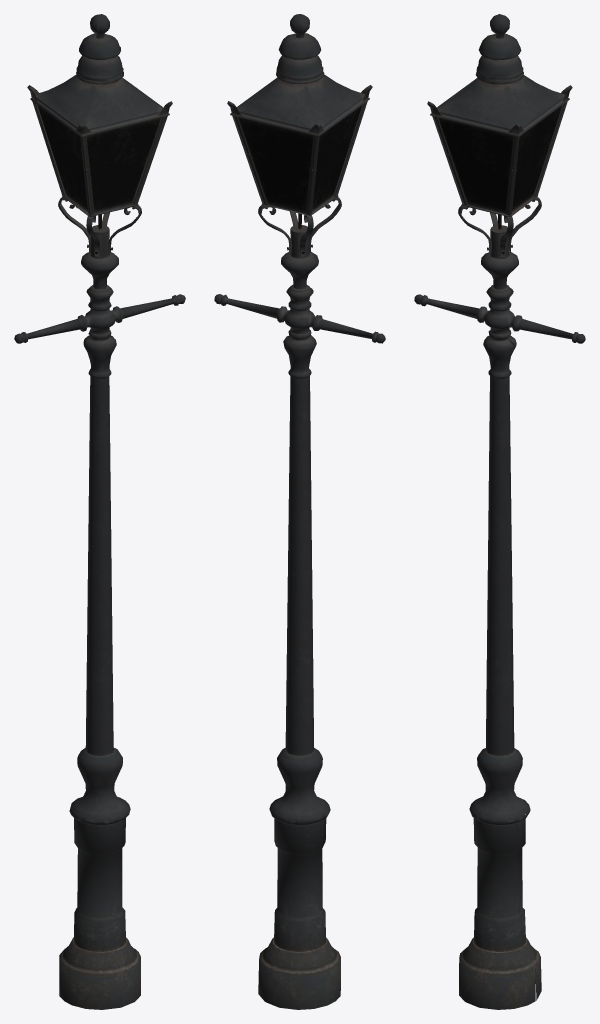
Rendered from street_lamp_01.glb.
3 renders of one model, left to right at view 1: azimuth 30°, elevation 25°; view 2: azimuth 150°, elevation 25°; view 3: azimuth 330°, elevation 25°, orthographic.
Visible parts, largest first — view 1: street_lamp_01; view 2: street_lamp_01; view 3: street_lamp_01.
Part boxes in pixels (box(x1,y1,x2,y2)): street_lamp_01: box(14, 14, 185, 1009); street_lamp_01: box(214, 14, 385, 1009); street_lamp_01: box(414, 14, 585, 1009).
Bounding box in the file's own units: 0.7047 × 3.87 × 0.3842.
Materials: 3 (3 with a texture image).
